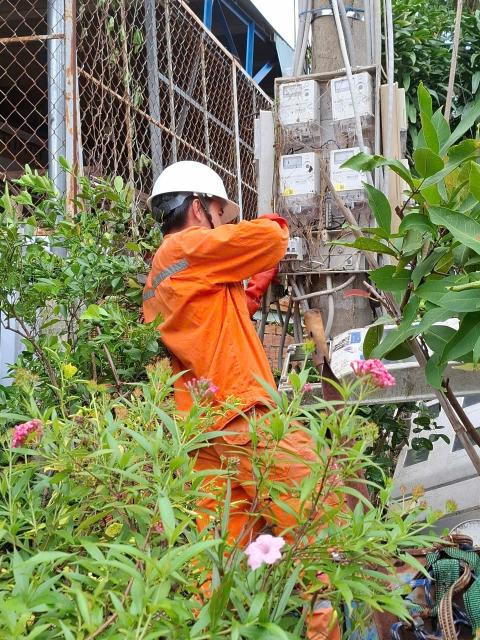gloves: (235, 258, 288, 320), (255, 205, 297, 243)
helmet: (150, 156, 248, 218)
